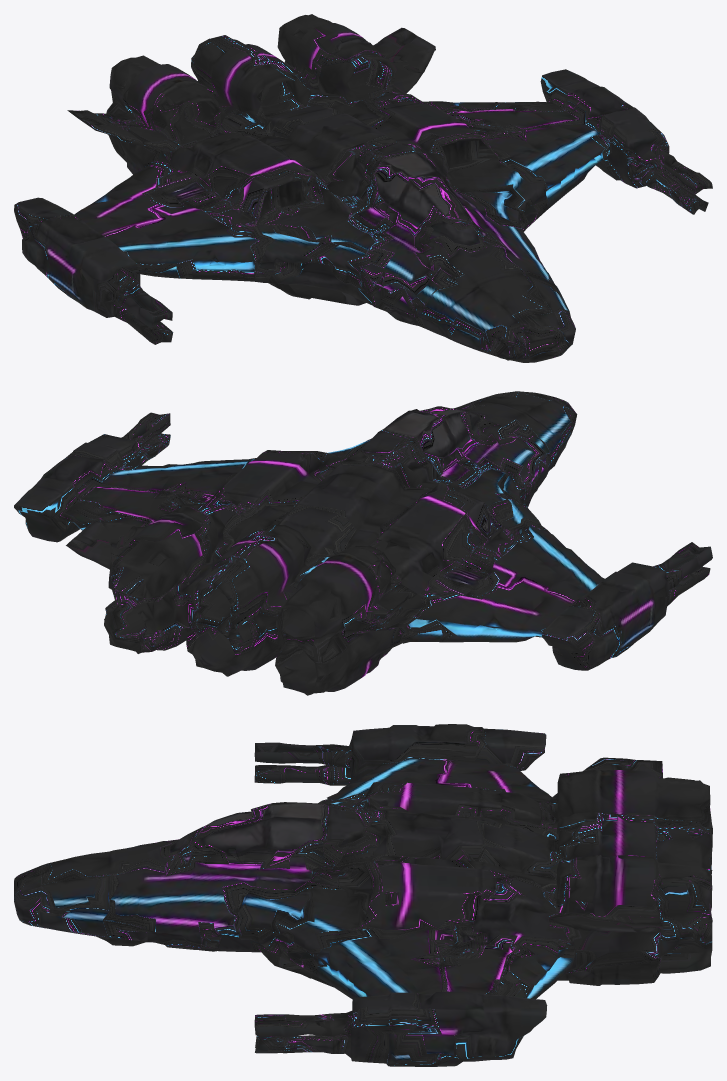
File: ally-b2.glb
3 views of the same model, one above another, from view 1: azimuth 30°, elevation 25°; view 2: azimuth 150°, elevation 25°; view 3: azimuth 270°, elevation 25° (orthographic). The views are drawn at different scales.
Visible parts, largest first — view 1: body; view 2: body; view 3: body.
Part boxes in pixels (x1,y1,x2,y2): body: (14,14,712,362); body: (14,391,712,695); body: (14,724,712,1066).
Size of the model in its own units: 0.9912 by 0.2084 by 0.9975.
Materials: 1 (1 with a texture image).
